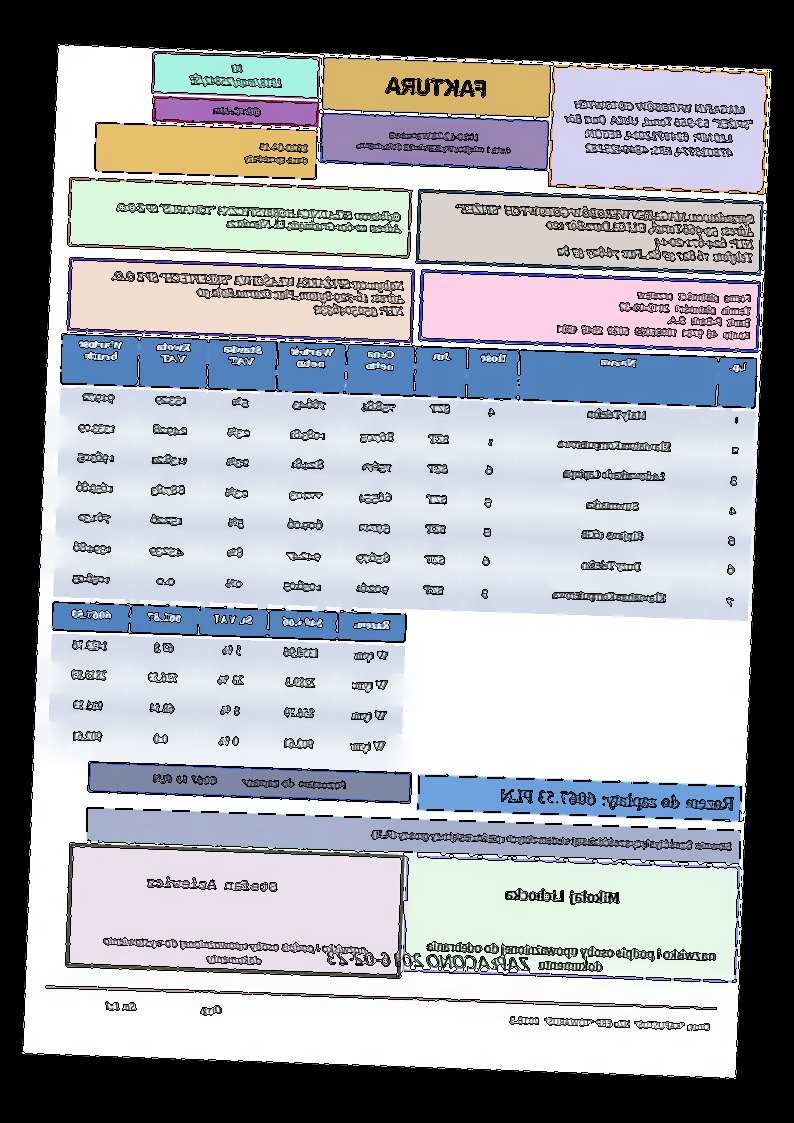Table: (51, 331, 759, 624), (47, 600, 409, 767)
TextBox: (451, 197, 757, 268), (108, 266, 407, 321), (562, 95, 756, 162), (554, 284, 754, 343), (427, 940, 719, 978), (115, 198, 405, 236), (371, 825, 734, 855), (101, 932, 368, 971), (497, 784, 737, 816), (321, 947, 531, 978), (354, 126, 516, 159), (508, 1011, 713, 1035), (151, 771, 349, 793), (502, 882, 623, 908), (189, 60, 286, 92), (144, 874, 280, 896), (383, 75, 489, 100), (242, 138, 312, 172), (102, 997, 225, 1016), (210, 102, 263, 121)
